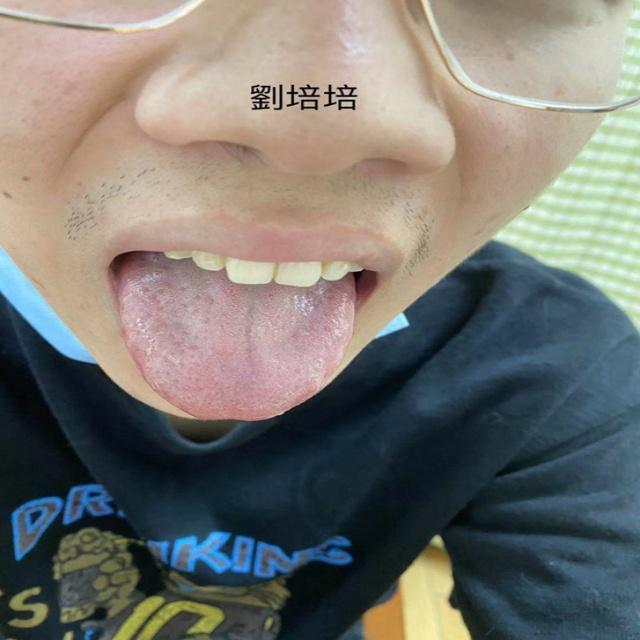baitaishe: (114, 284, 353, 421)
